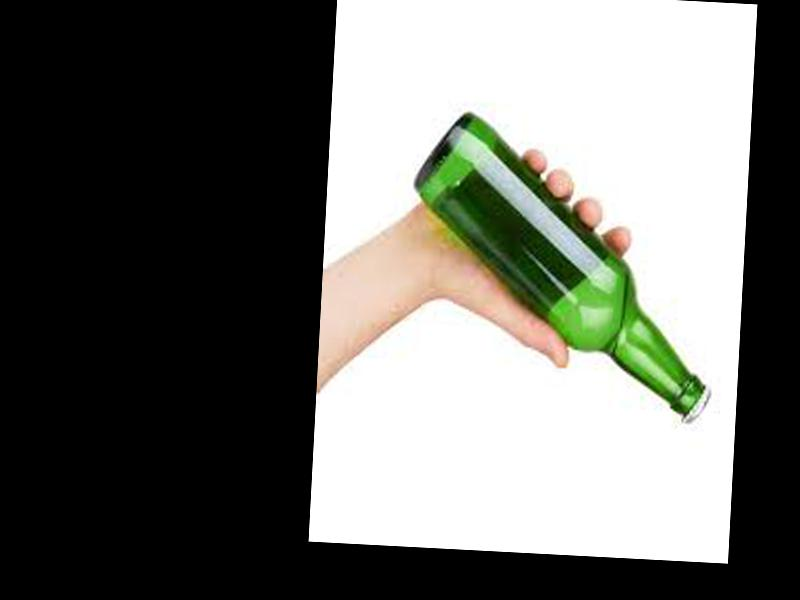Beer: (397, 112, 720, 424)
